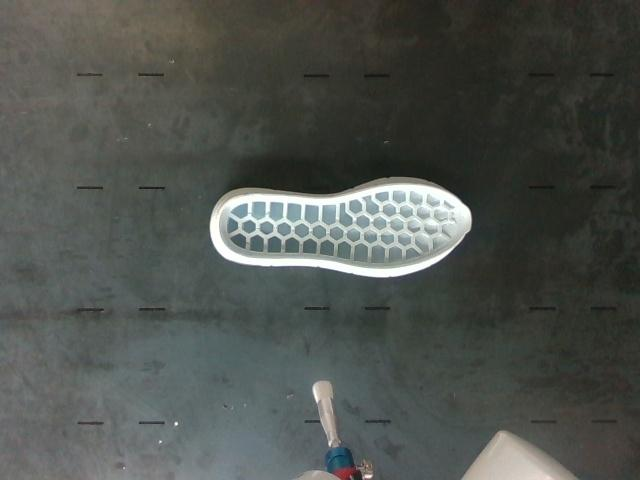shoes: (218, 183, 471, 269)
